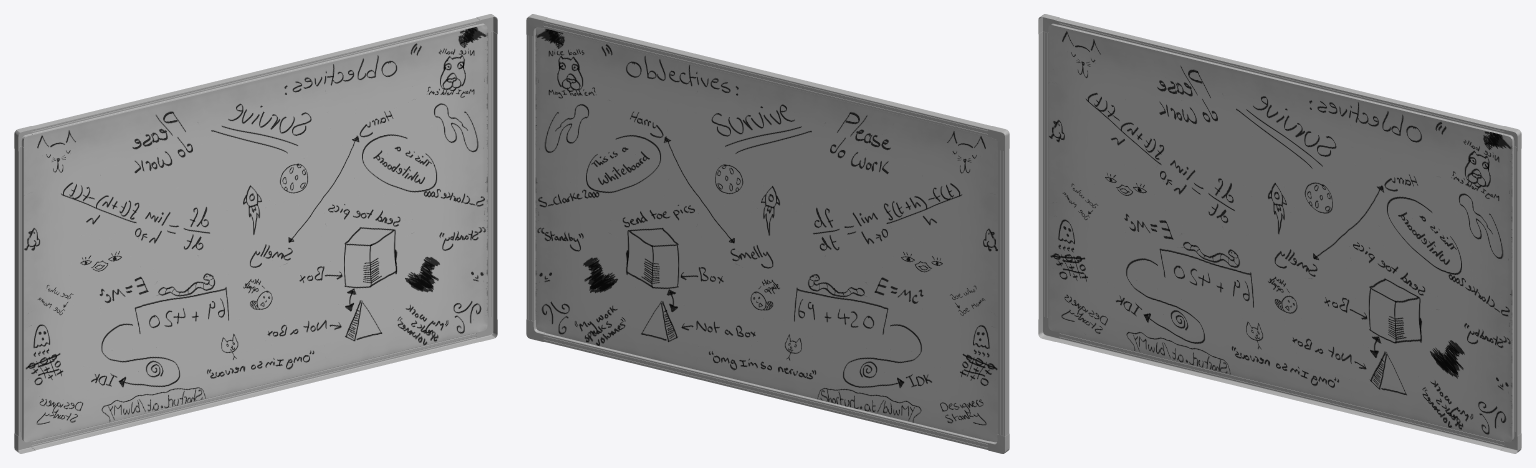
The model's file is board.fbx.
The picture shows the model from 3 angles, left to right: view 1: azimuth 30°, elevation 25°; view 2: azimuth 150°, elevation 25°; view 3: azimuth 330°, elevation 25°; orthographic projection.
Visible parts, largest first — view 1: Board_; view 2: Board_; view 3: Board_.
Part boxes in pixels (left/top/right/bottom): Board_: left=14, top=14, right=497, bottom=453; Board_: left=526, top=14, right=1009, bottom=453; Board_: left=1038, top=14, right=1521, bottom=453.
Size of the model in its own units: 165 by 106 by 2.53.
Materials: 1 (1 with a texture image).
